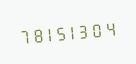eight: (30, 23, 42, 46)
five: (56, 21, 68, 43)
four: (108, 16, 120, 39)
one: (43, 22, 55, 45), (69, 19, 81, 42)
seven: (17, 24, 29, 47)
three: (82, 18, 94, 41)
zero: (95, 17, 107, 40)
